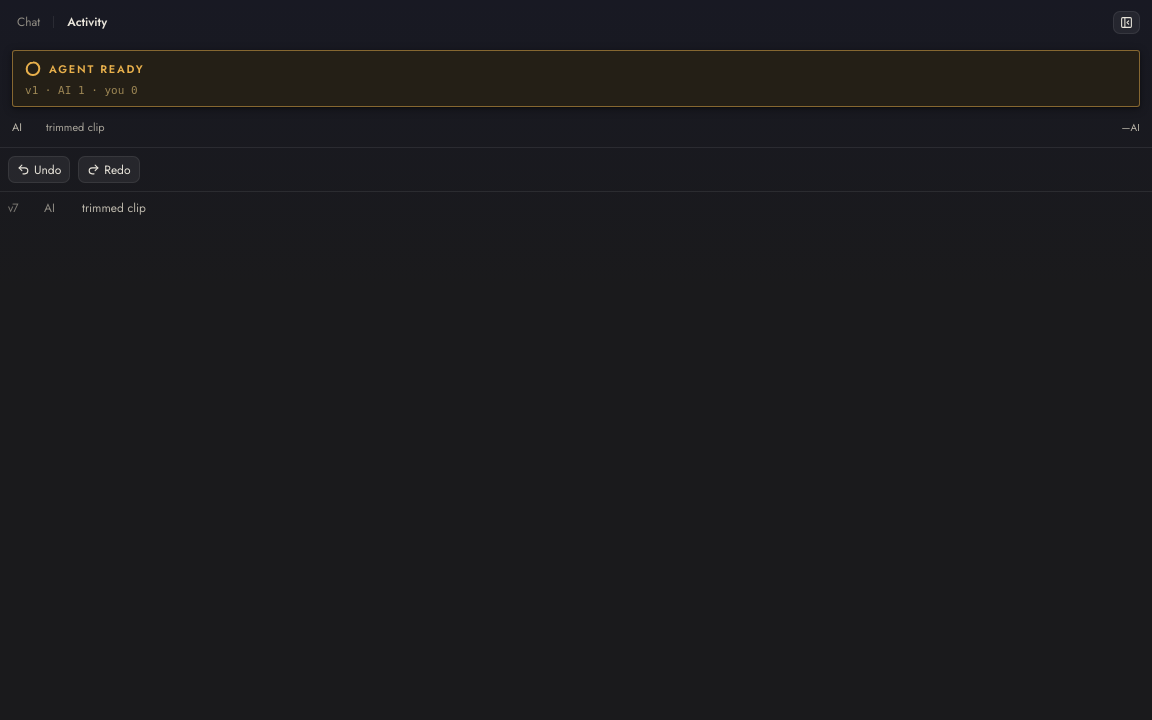
Test: AI column tabs › the full card (recent edits + counts) is Activity-only
Click the button with class "tab-link" showing "Chat" at x=29, y=22, box [12, 10, 45, 34]
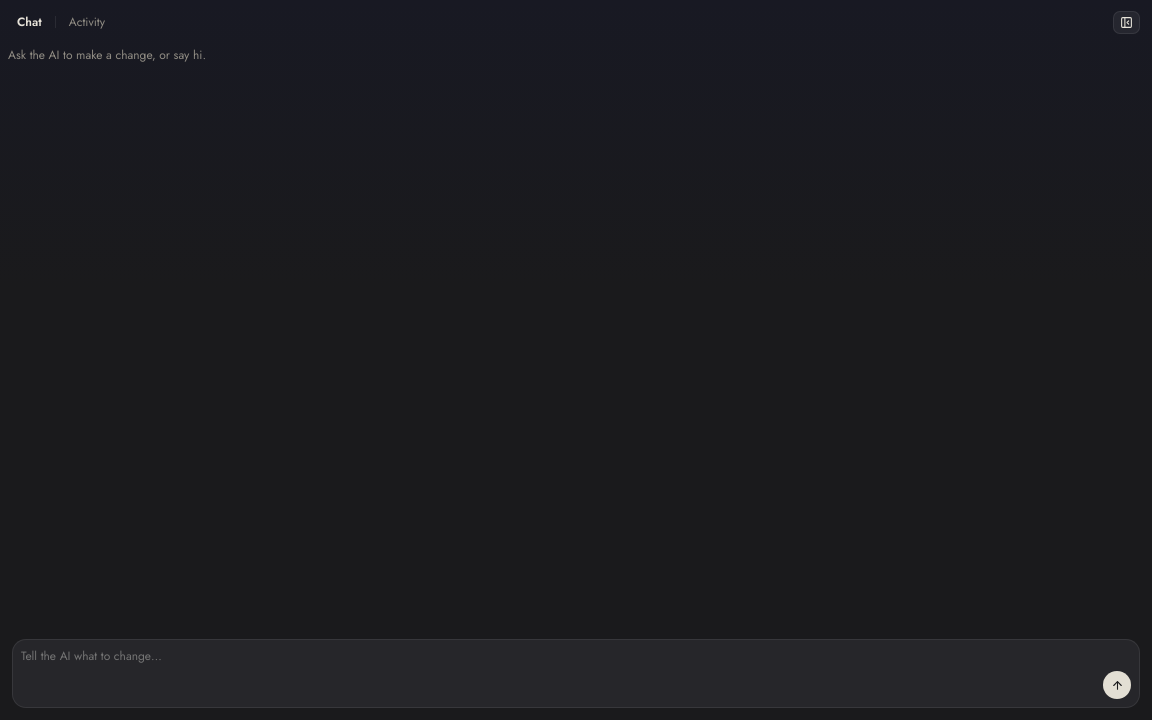
Expected: the text with class "ap-card-sign" is gone
Expected: the text with class "ap-card-counts" is gone
Expected: the text "trimmed clip" is gone
Click the button with class "tab-link" showing "Activity" at x=87, y=22, box [64, 10, 110, 34]
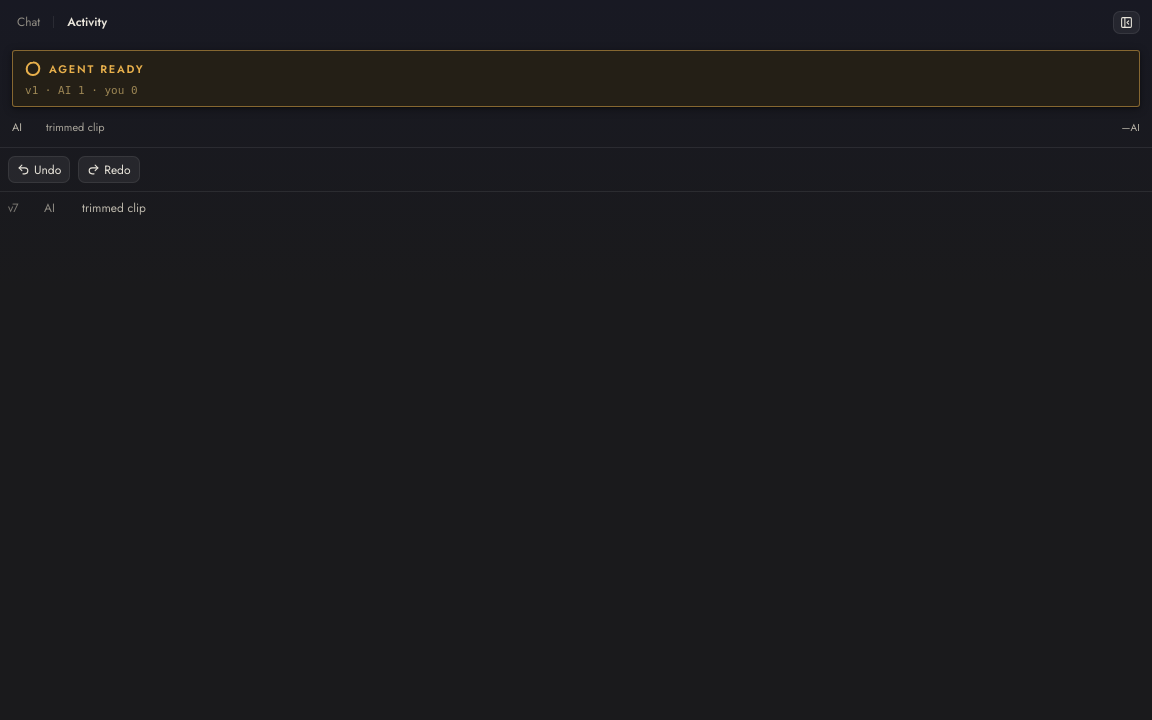
Expected: the text "—AI" is shown, [1121, 121, 1140, 134]
Expected: the text "v1 · AI 1 · you 0" is shown, [25, 84, 138, 97]
